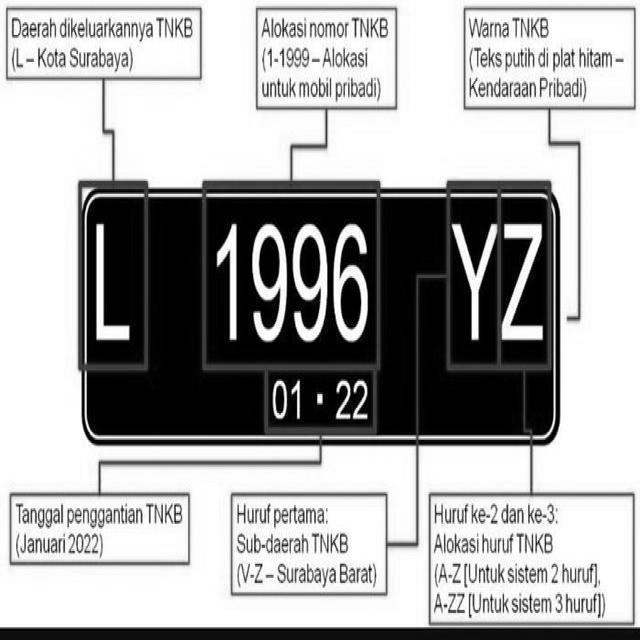1: (210, 210, 248, 354)
6: (330, 216, 372, 346)
9: (248, 222, 290, 353), (290, 220, 328, 348)
L: (80, 210, 144, 364)
Y: (450, 210, 500, 346)
Z: (490, 216, 554, 351)
